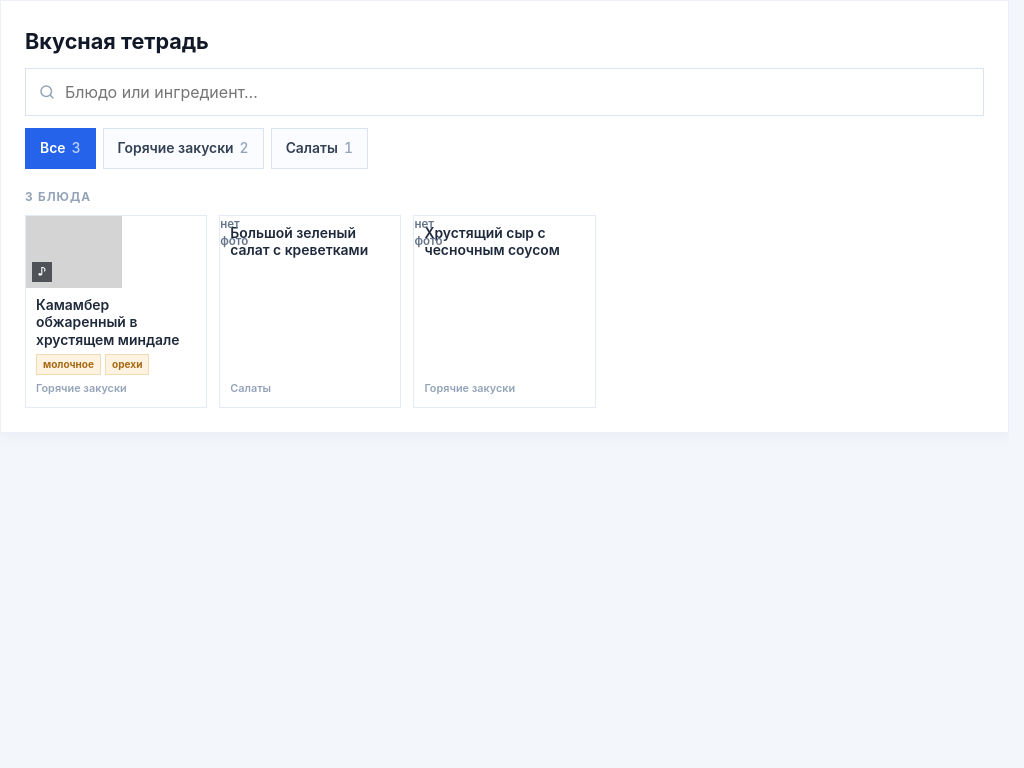
Test: TastyNotebookView — экран официанта › не показывает блок аллергенов, когда поле не заполнено
# Во втором блюде состав есть, а аллергены не заполнены (null).
Click the button with class "nb-tile" that starts with "Большой зеленый салат с креветками". click: click(310, 312)
box: [219, 215, 401, 408]
(page scrolled)
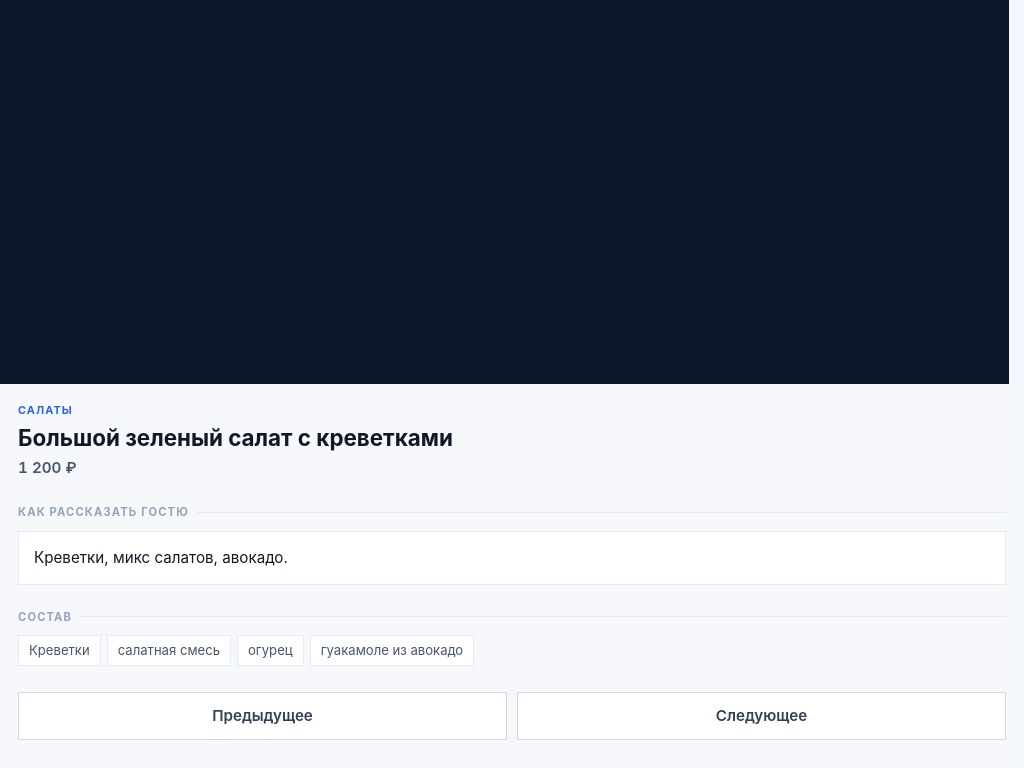
Result: the dialog with class "nb-sheet" shows "Большой зеленый салат" at [18, 424, 453, 450]
Result: the dialog with class "nb-sheet" shows "Состав" at [18, 610, 72, 624]
Result: the text "Креветки" is shown at [18, 635, 101, 666]
